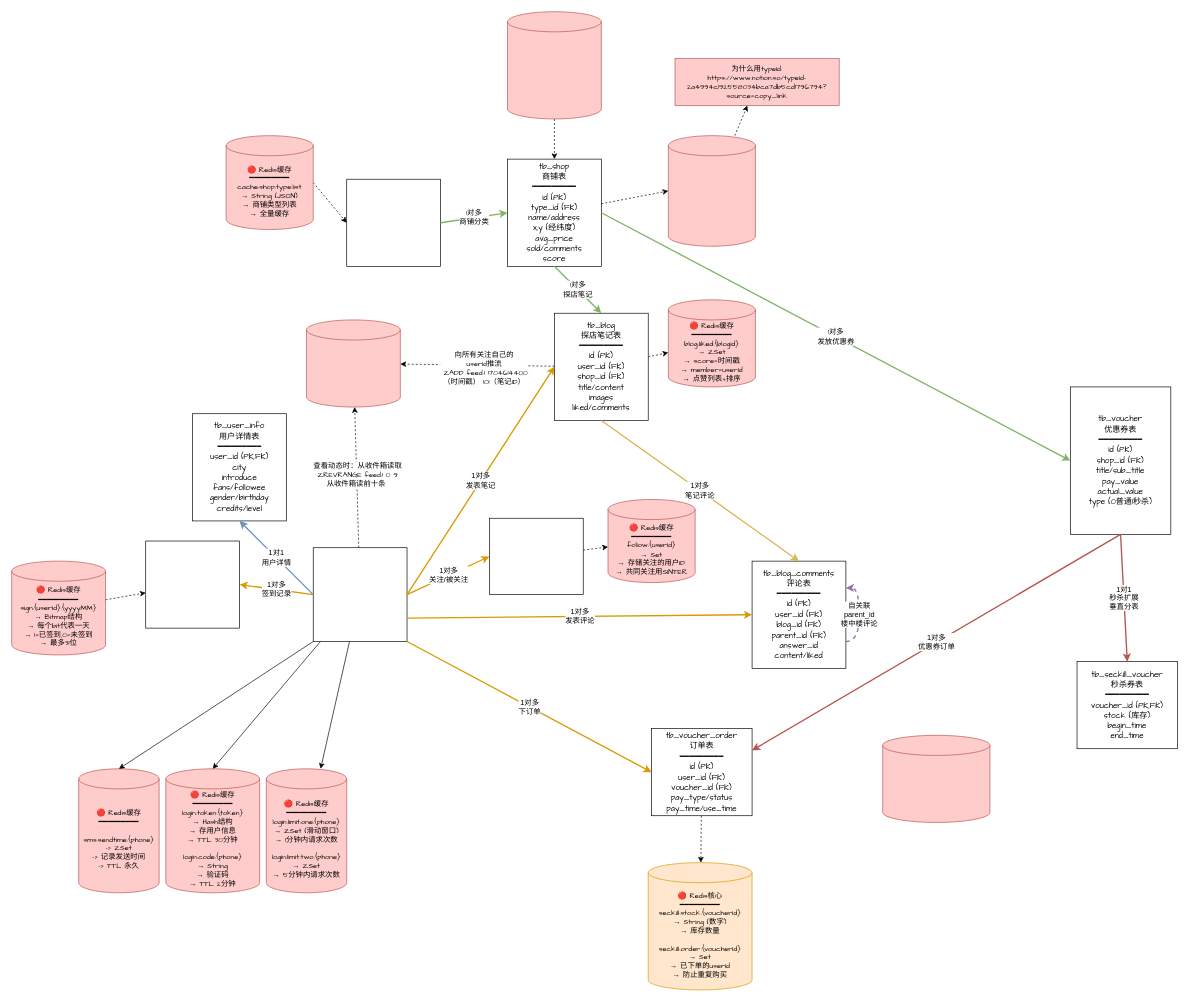
Image size: 1189x1002. Some labels were removed from this diagram. Each missing label, with the box of its shape:
tb_follow 关注表 ━━━━━━━━━ id (PK) user_id (FK) follow_user_id (FK) create_time: (489, 518, 583, 595)
tb_shop_type 商铺类型表 ━━━━━━━━━ id (PK) name icon sort: (346, 179, 441, 266)
tb_sign 签到表 ━━━━━━━━━ id (PK) user_id (FK) year/month/date is_backup: (145, 540, 240, 628)
tb_user 用户表 ━━━━━━━━━ id (PK) phone (唯一) password nick_name icon: (313, 547, 407, 642)
🔴 Redis缓存 ━━━━━━━━━ cache:shop:{id} → String (JSON) → 商铺详情 → 缓存击穿/穿透保护 → 逻辑过期时间: (507, 11, 601, 119)
🔴 Redis缓存 ━━━━━━━━━ feed:{userId} → ZSet → score=时间戳 → member=blogId → 关注者推送流: (306, 319, 400, 407)
🔴 Redis缓存 ━━━━━━━━━ shop:geo:{typeId} → GEO地理位置 → 存储经纬度 → GEOSEARCH 查询附近商铺: (668, 135, 755, 246)
🔴 Redis锁 ━━━━━━━━━ lock:order:{userId} → String → 分布式锁 → 防止一人一单 → Redisson实现: (882, 735, 990, 822)
